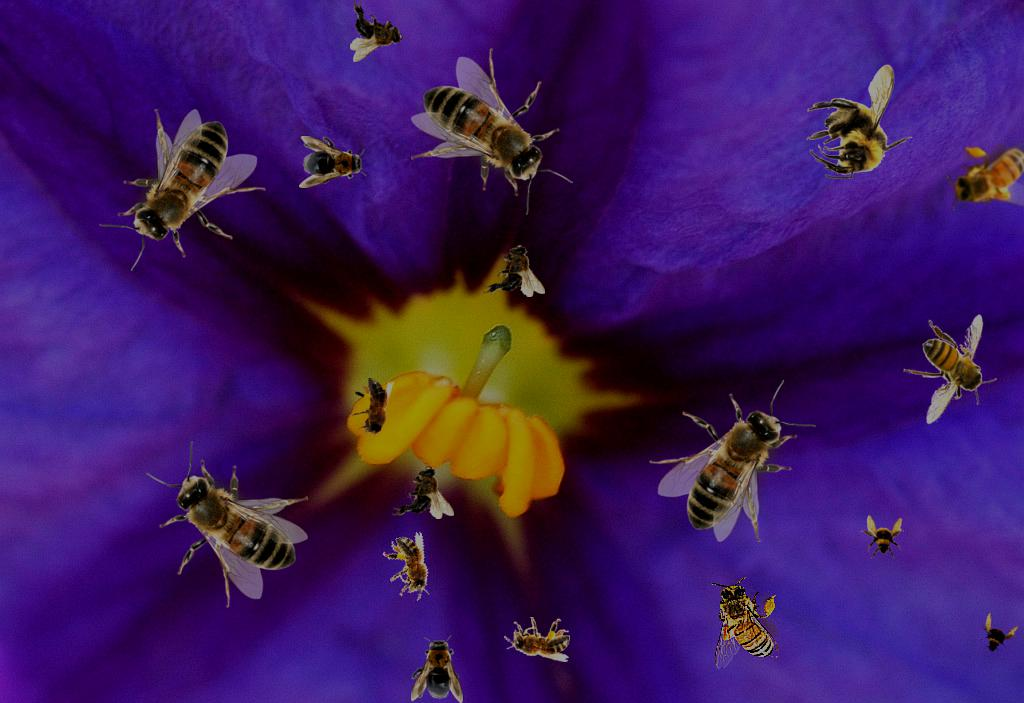Bee: (146, 441, 308, 608), (411, 48, 573, 215), (99, 109, 266, 271), (649, 380, 816, 542), (806, 64, 913, 179), (903, 314, 997, 425), (711, 577, 779, 670), (947, 143, 1024, 211), (377, 529, 443, 608), (411, 635, 463, 703), (299, 136, 367, 188), (966, 607, 1024, 665), (392, 466, 454, 519), (350, 0, 403, 62), (483, 244, 545, 297), (504, 617, 570, 662), (349, 378, 394, 444), (860, 515, 904, 559)
